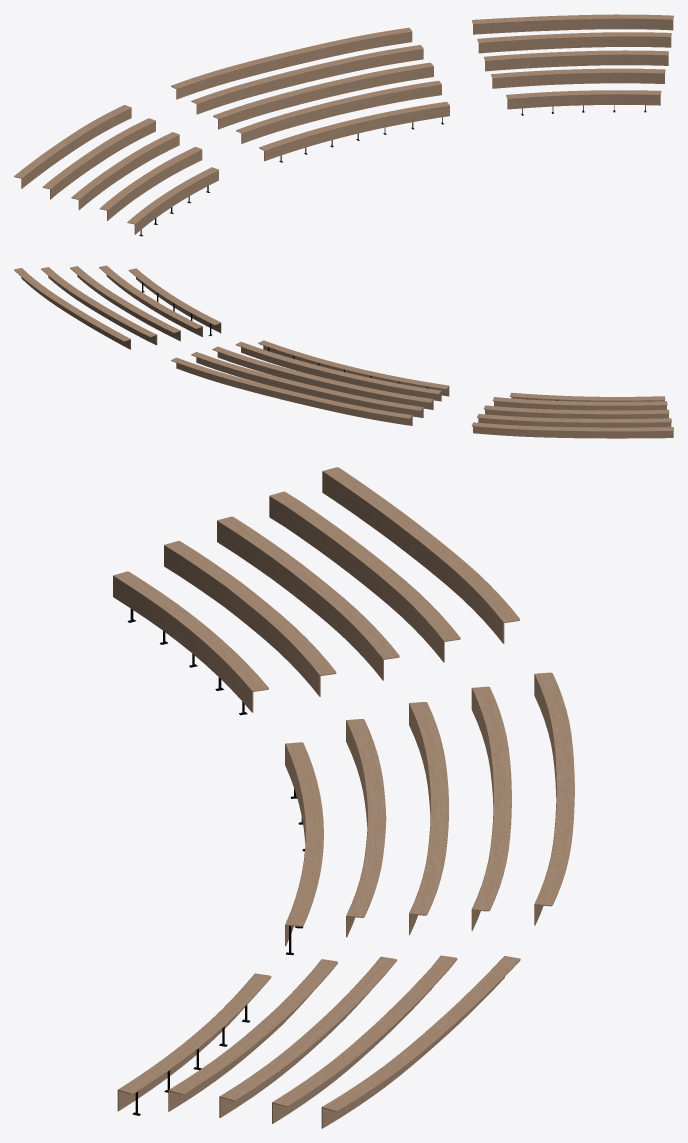
The model's file is ULT_Benches.FBX.
3 renders of one model, top to bottom at view 1: azimuth 30°, elevation 25°; view 2: azimuth 150°, elevation 25°; view 3: azimuth 270°, elevation 25°, orthographic. The views are drawn at different scales.
Visible parts, largest first — view 1: ULT_Bench_14, ULT_Bench_11, ULT_Bench_08, ULT_Bench_05, ULT_Bench_15, ULT_Bench_02, ULT_Bench_12, ULT_Bench_09, ULT_Bench_06, ULT_Bench_03, ULT_Bench_13, ULT_Bench_10 (+3 smaller); view 2: ULT_Bench_14, ULT_Bench_11, ULT_Bench_08, ULT_Bench_13, ULT_Bench_05, ULT_Bench_10, ULT_Bench_07, ULT_Bench_04, ULT_Bench_02, ULT_Bench_15, ULT_Bench_12, ULT_Bench_09 (+3 smaller); view 3: ULT_Bench_13, ULT_Bench_10, ULT_Bench_07, ULT_Bench_04, ULT_Bench_01, ULT_Bench_14, ULT_Bench_11, ULT_Bench_08, ULT_Bench_15, ULT_Bench_05, ULT_Bench_02, ULT_Bench_12 (+3 smaller).
Boxes of the visible parts, x1,y1,x2,y2 form: ULT_Bench_14: (171, 27, 412, 99); ULT_Bench_11: (191, 45, 423, 114); ULT_Bench_08: (213, 62, 433, 129); ULT_Bench_05: (236, 80, 441, 143); ULT_Bench_15: (471, 14, 673, 34); ULT_Bench_02: (259, 101, 449, 162); ULT_Bench_12: (477, 32, 671, 53); ULT_Bench_09: (483, 50, 668, 71); ULT_Bench_06: (491, 68, 665, 88); ULT_Bench_03: (506, 90, 661, 115); ULT_Bench_13: (14, 105, 131, 188); ULT_Bench_10: (42, 118, 155, 199); ULT_Bench_14: (171, 357, 412, 425); ULT_Bench_11: (191, 352, 423, 417); ULT_Bench_08: (212, 346, 433, 409); ULT_Bench_13: (471, 422, 673, 438); ULT_Bench_05: (235, 341, 441, 401); ULT_Bench_10: (477, 414, 671, 427); ULT_Bench_07: (483, 405, 669, 418); ULT_Bench_04: (492, 397, 667, 410); ULT_Bench_02: (258, 340, 449, 396); ULT_Bench_15: (14, 268, 130, 349); ULT_Bench_12: (41, 267, 157, 345); ULT_Bench_09: (70, 266, 180, 341); ULT_Bench_13: (322, 467, 519, 643); ULT_Bench_10: (269, 491, 460, 662); ULT_Bench_07: (217, 516, 399, 680); ULT_Bench_04: (164, 541, 336, 696); ULT_Bench_01: (113, 571, 268, 715); ULT_Bench_14: (534, 672, 574, 925); ULT_Bench_11: (471, 686, 511, 930); ULT_Bench_08: (409, 702, 448, 935); ULT_Bench_15: (321, 956, 520, 1128); ULT_Bench_05: (346, 719, 386, 937); ULT_Bench_02: (285, 742, 323, 955); ULT_Bench_12: (272, 955, 457, 1123).
Size of the model in its own units: 33498 by 1946 by 10158.
